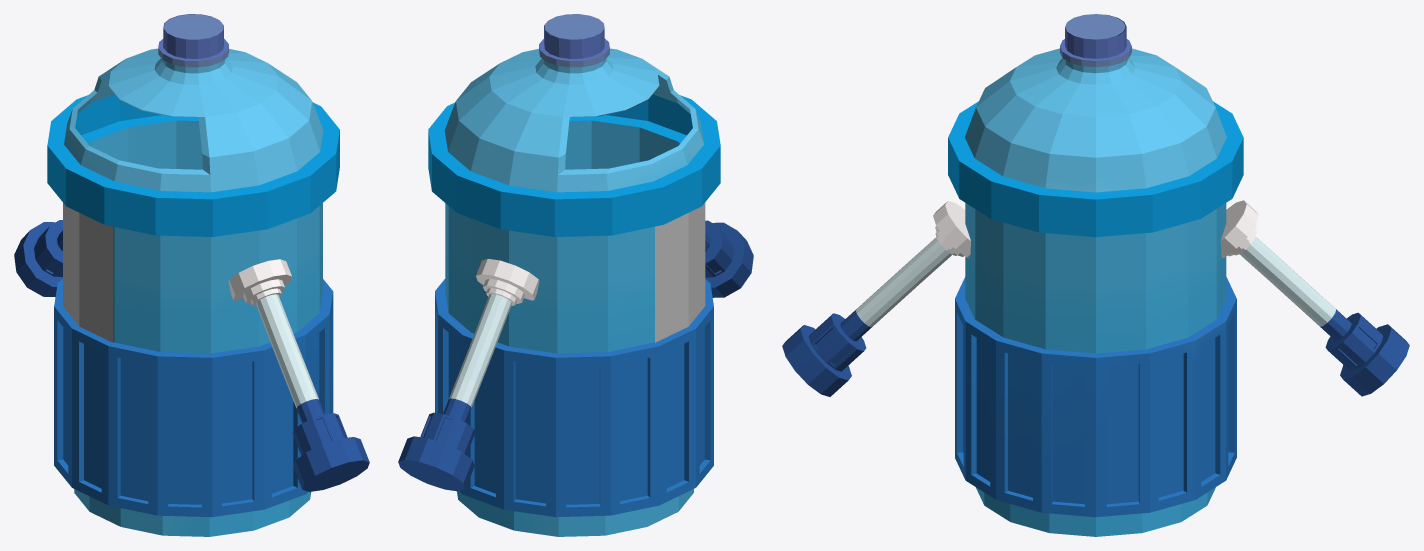
The model's file is Plastic_Bin (1).fbx.
3 renders of one model, left to right at view 1: azimuth 30°, elevation 25°; view 2: azimuth 150°, elevation 25°; view 3: azimuth 270°, elevation 25°, orthographic.
Parts seen in each view (by area): view 1: Body; view 2: Body; view 3: Body.
Boxes of the visible parts, x1=… form: Body: x1=14, y1=14, x2=369, y2=536; Body: x1=398, y1=14, x2=753, y2=536; Body: x1=782, y1=14, x2=1409, y2=536.
Size of the model in its own units: 0.5661 by 0.9745 by 1.21.
